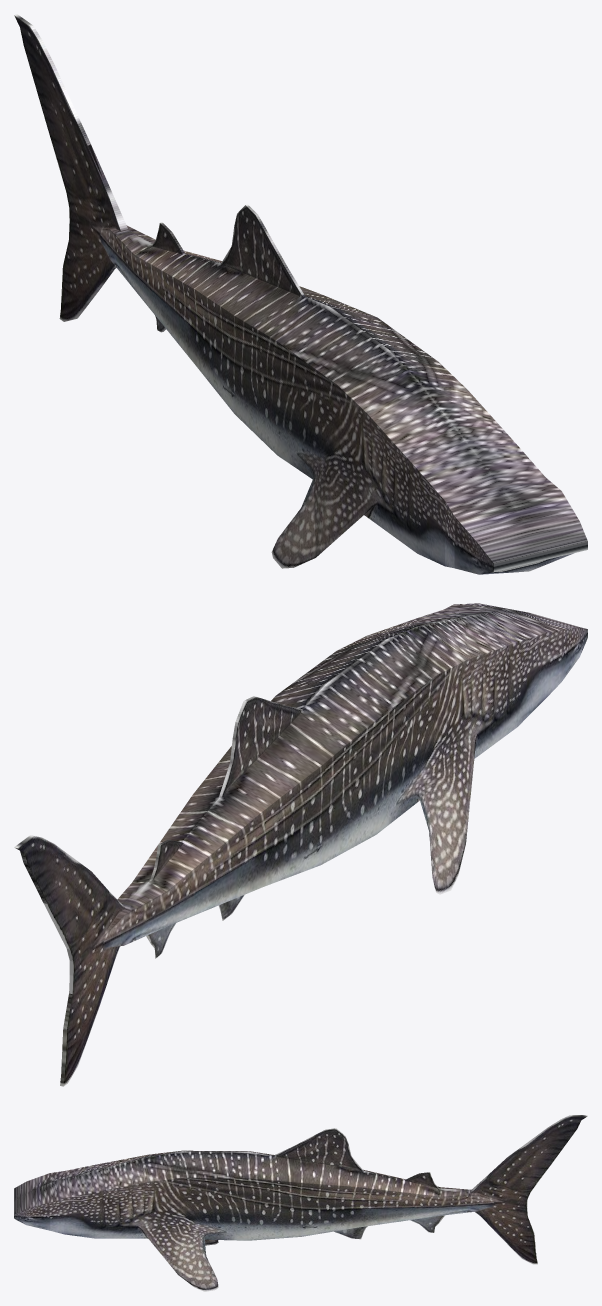
File: AR_Species_WhaleShark.fbx
3 views of the same model, one above another, from view 1: azimuth 30°, elevation 25°; view 2: azimuth 150°, elevation 25°; view 3: azimuth 270°, elevation 25° (orthographic). The views are drawn at different scales.
Parts seen in each view (by area): view 1: Whale Shark.001; view 2: Whale Shark.001; view 3: Whale Shark.001.
Part boxes in pixels (x1,y1,x2,y2): Whale Shark.001: (14,14,587,574); Whale Shark.001: (14,603,587,1086); Whale Shark.001: (14,1115,587,1291).
Size of the model in its own units: 48.07 by 75.43 by 256.
Materials: 1 (1 with a texture image).
